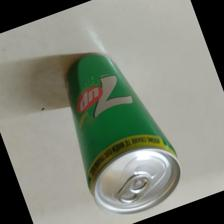7up: (64, 53, 181, 216)
